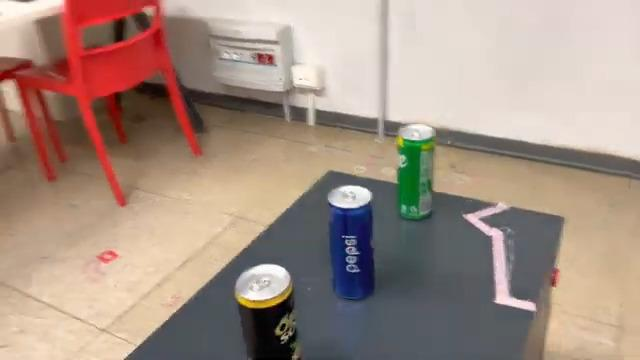OranSoda: (228, 260, 306, 360)
Pepsi: (323, 180, 382, 306)
Sprite: (392, 116, 438, 226)
